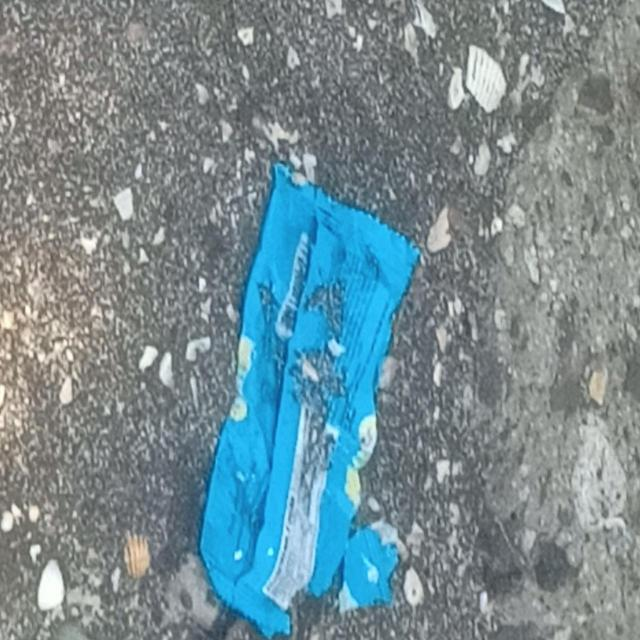plastic_waste: (198, 158, 425, 640)
